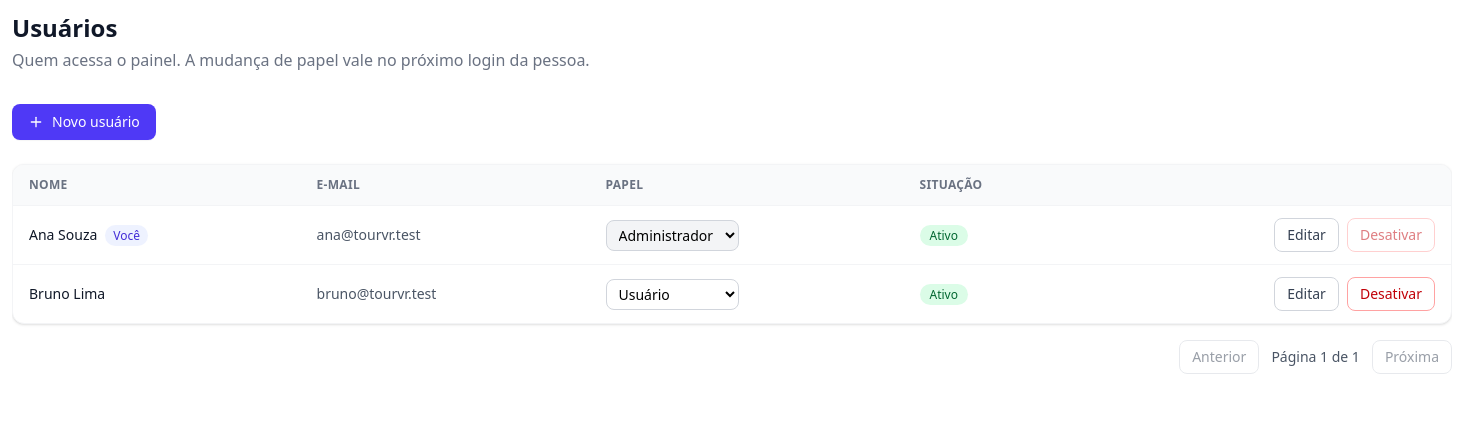
Test: UsersPage › erro da acao aparece em alerta
Click the button "Desativar" in the row of "Bruno Lima" at (1391, 294), box [1347,277,1435,311]
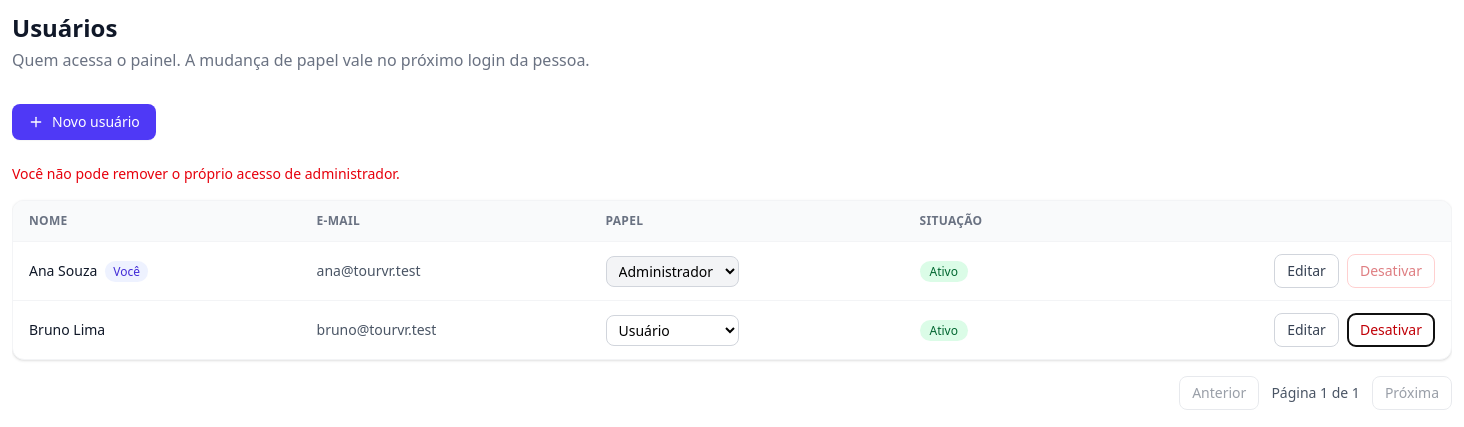
Result: the message shows "próprio acesso" at [12,164,400,183]
